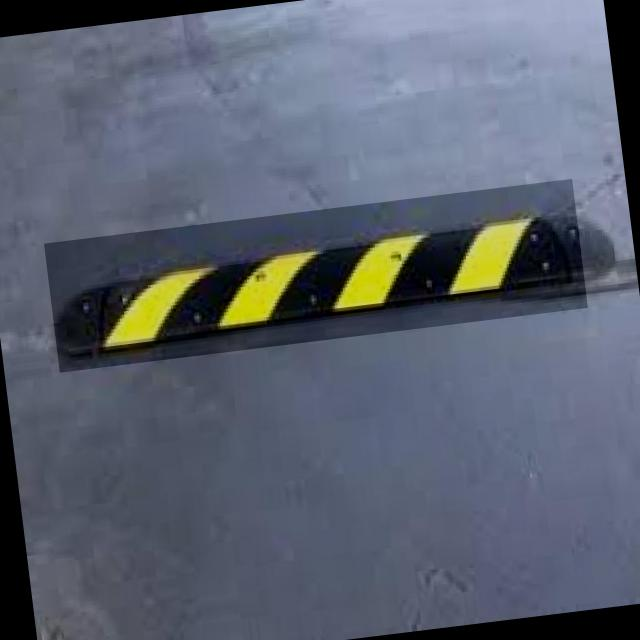bump: (44, 178, 588, 372)
